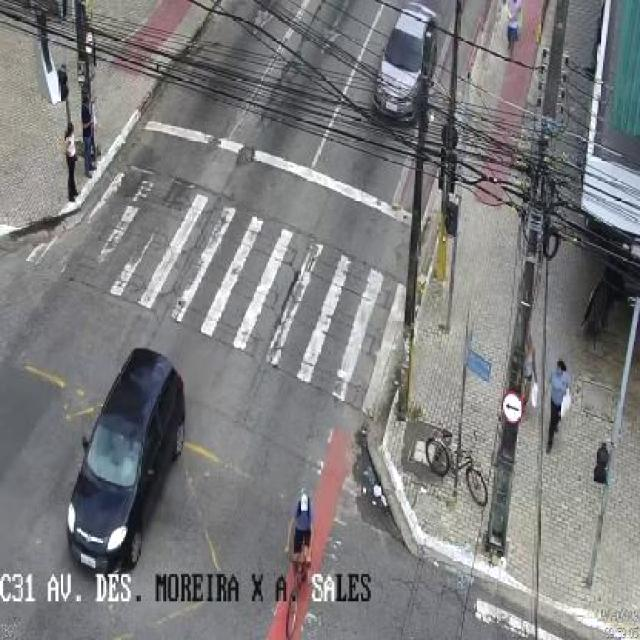Car: (66, 345, 191, 580), (370, 3, 439, 128)
Cycle: (424, 434, 498, 512), (286, 546, 319, 639)
